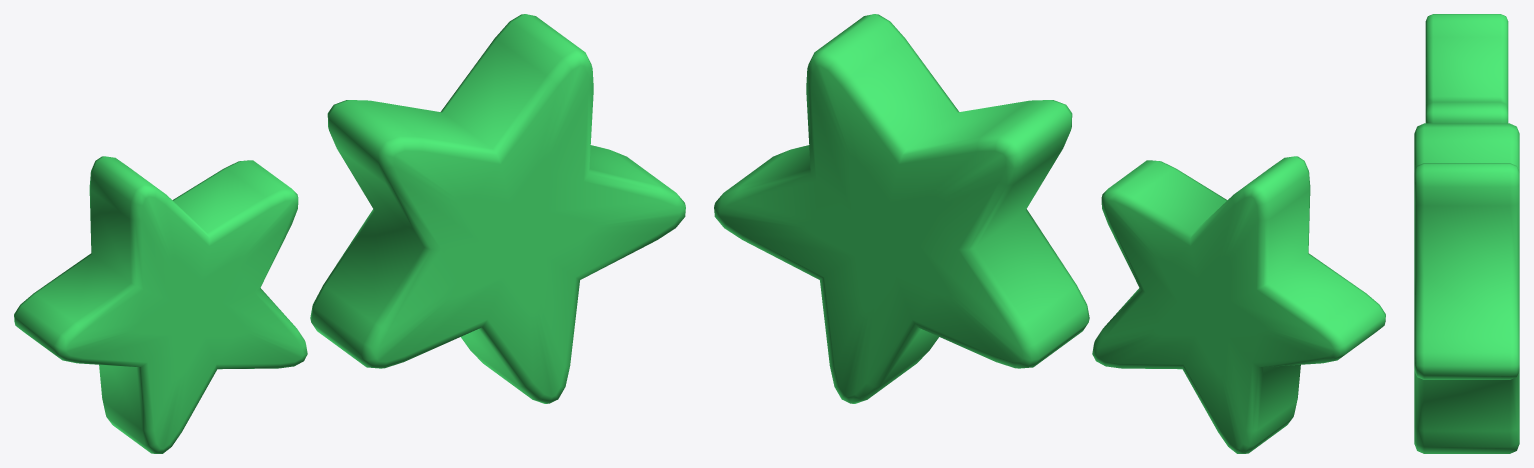
Rendered from star2.fbx.
3 views of the same model, side by side, from view 1: azimuth 30°, elevation 25°; view 2: azimuth 150°, elevation 25°; view 3: azimuth 270°, elevation 25° (orthographic). The views are drawn at different scales.
Visible parts, largest first — view 1: Circle.009; view 2: Circle.009; view 3: Circle.009.
Part boxes in pixels (box(x1,y1,x2,y2)): Circle.009: box(14, 14, 685, 453); Circle.009: box(714, 14, 1385, 453); Circle.009: box(1414, 14, 1519, 453).
Size of the model in its own units: 0.6665 by 0.3525 by 0.1124.
